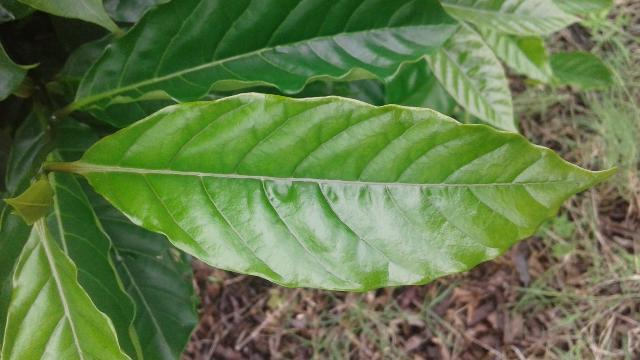healthy: (78, 92, 618, 288)
